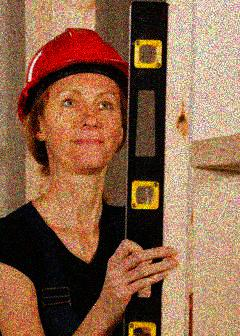helmet: (16, 26, 134, 172)
